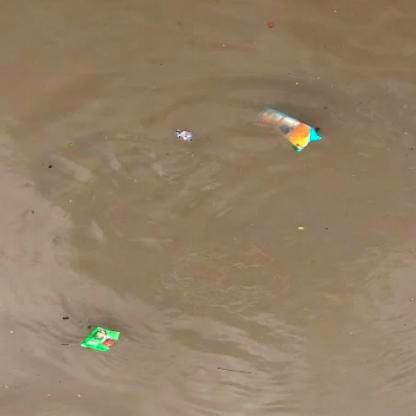Trash: (257, 107, 324, 155), (82, 325, 122, 355)
